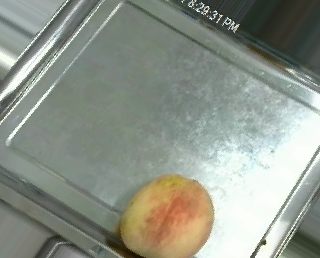Peach: (119, 172, 214, 257)
